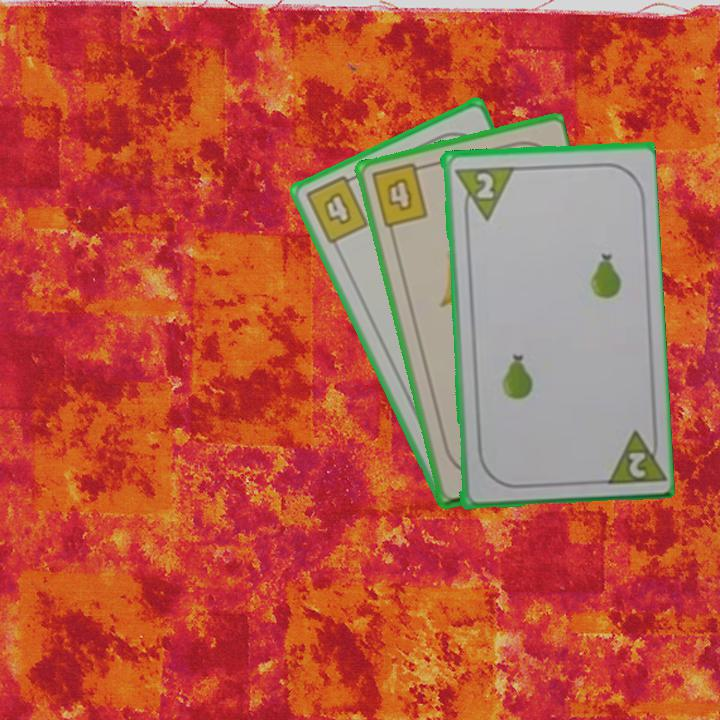2p: (599, 424, 664, 487), (450, 162, 514, 223)
4b: (301, 170, 371, 247), (367, 160, 430, 230)
